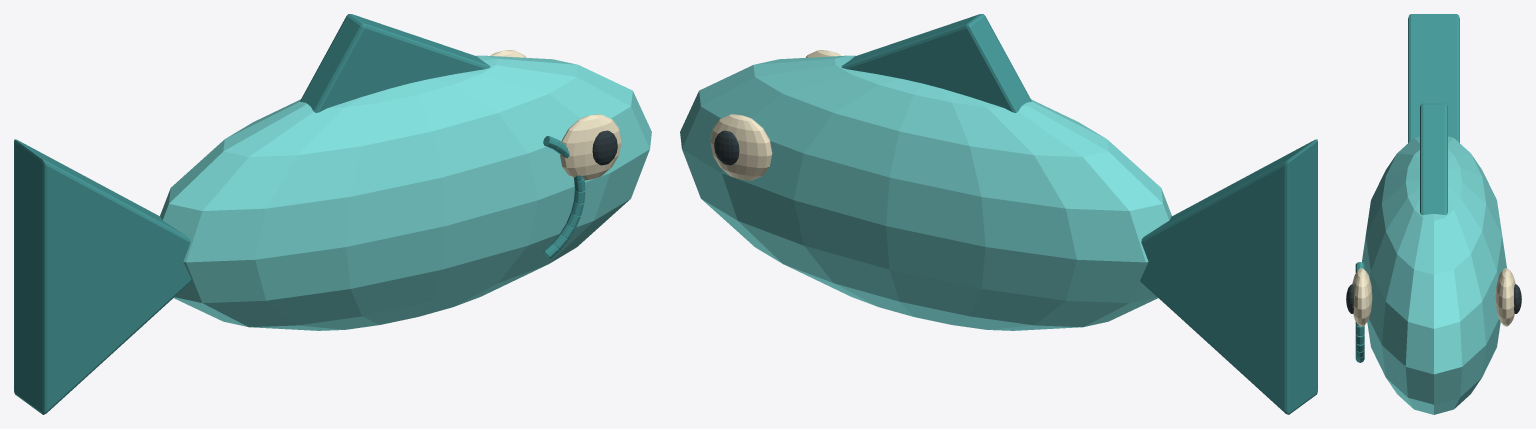
File: P039_rubber_fish.glb
The picture shows the model from 3 angles, left to right: view 1: azimuth 30°, elevation 25°; view 2: azimuth 150°, elevation 25°; view 3: azimuth 270°, elevation 25°; orthographic projection. The views are drawn at different scales.
Visible parts, largest first — view 1: P039_fish_001, P039_tail_002, P039_top_fin_003, P039_eye_004, P039_pupil_005; view 2: P039_fish_001, P039_tail_002, P039_top_fin_003, P039_eye_006, P039_pupil_007; view 3: P039_fish_001, P039_tail_002, P039_top_fin_003, P039_eye_004, P039_eye_006, P039_pupil_005, P039_pupil_007.
Boxes of the visible parts, x1,y1,x2,y2 form: P039_fish_001: [160, 55, 651, 330]; P039_tail_002: [14, 139, 191, 414]; P039_top_fin_003: [300, 14, 490, 112]; P039_eye_004: [560, 114, 621, 180]; P039_pupil_005: [592, 130, 617, 165]; P039_fish_001: [680, 55, 1171, 330]; P039_tail_002: [1140, 139, 1317, 414]; P039_top_fin_003: [841, 14, 1031, 112]; P039_eye_006: [710, 114, 772, 180]; P039_pupil_007: [714, 130, 739, 165]; P039_fish_001: [1362, 136, 1506, 414]; P039_tail_002: [1408, 14, 1459, 142]; P039_top_fin_003: [1420, 103, 1447, 214]; P039_eye_004: [1352, 268, 1372, 326]; P039_eye_006: [1495, 268, 1515, 326]; P039_pupil_005: [1346, 284, 1353, 313]; P039_pupil_007: [1514, 284, 1521, 313].
Size of the model in its own units: 0.385 by 0.1804 by 0.1142.
